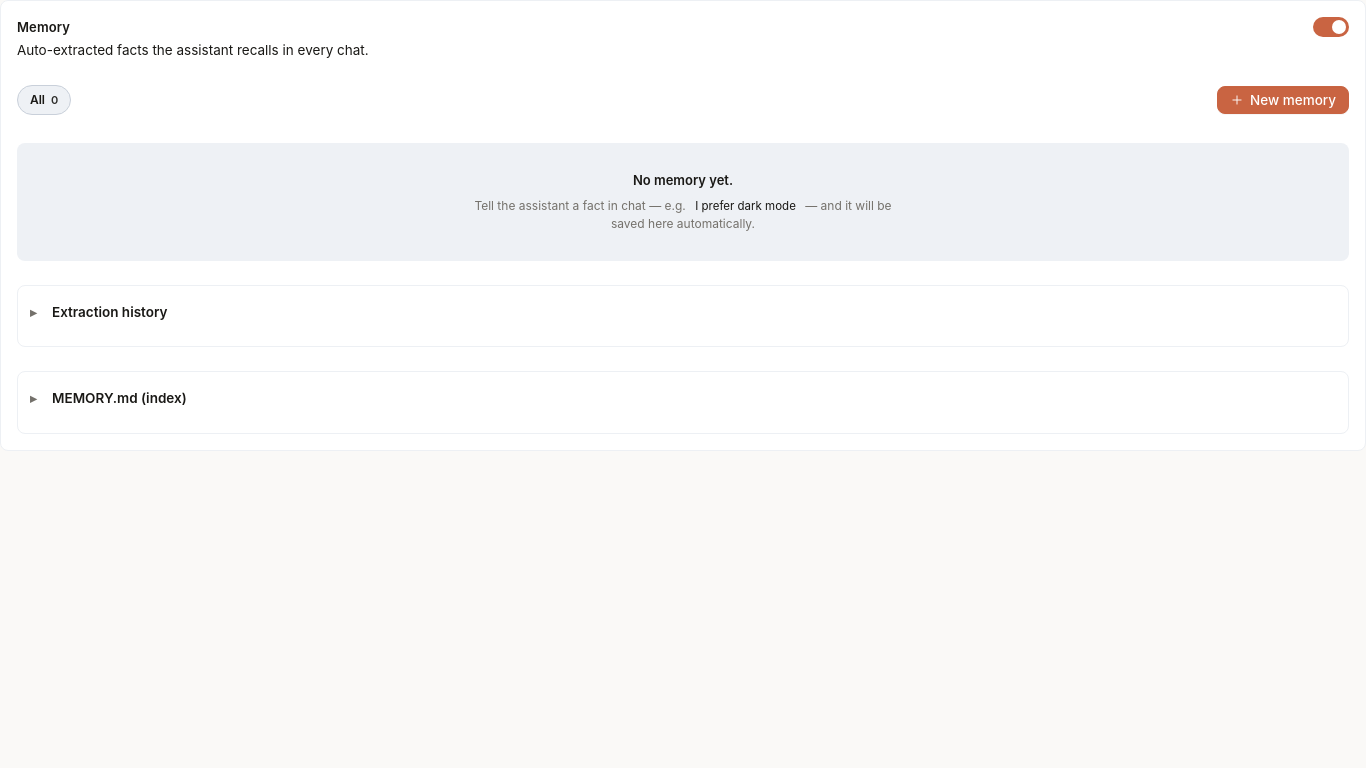
Test: MemorySection › deletes a single extraction row without clearing the whole history
Click the heading "Extraction history" at (110, 312), box [52,304,168,320]
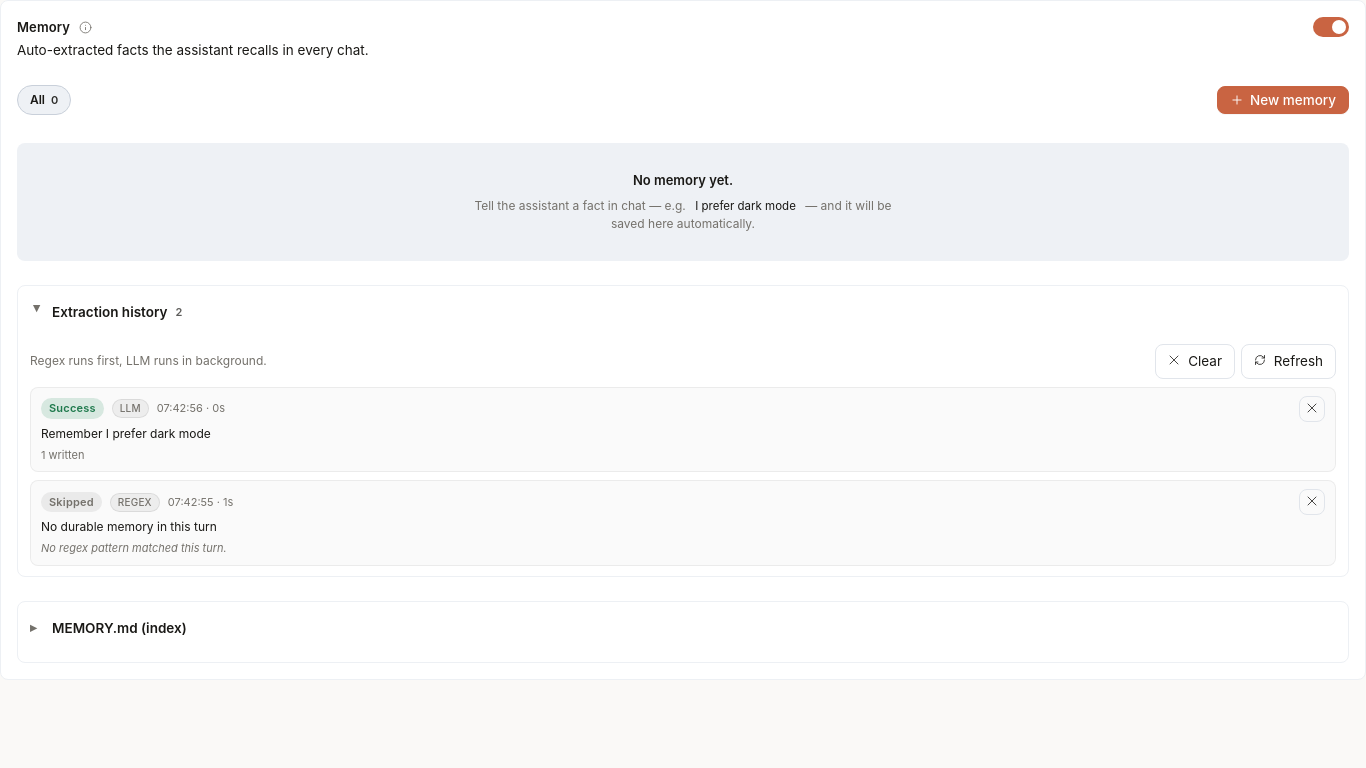
Now the text "Remember I prefer dark mode" is shown, box [41,426,211,441]
Now the text "No durable memory in this turn" is shown, box [41,519,217,534]
Click the button named "Delete" in the row of "0s" at (1312, 409), box [1299,396,1325,422]
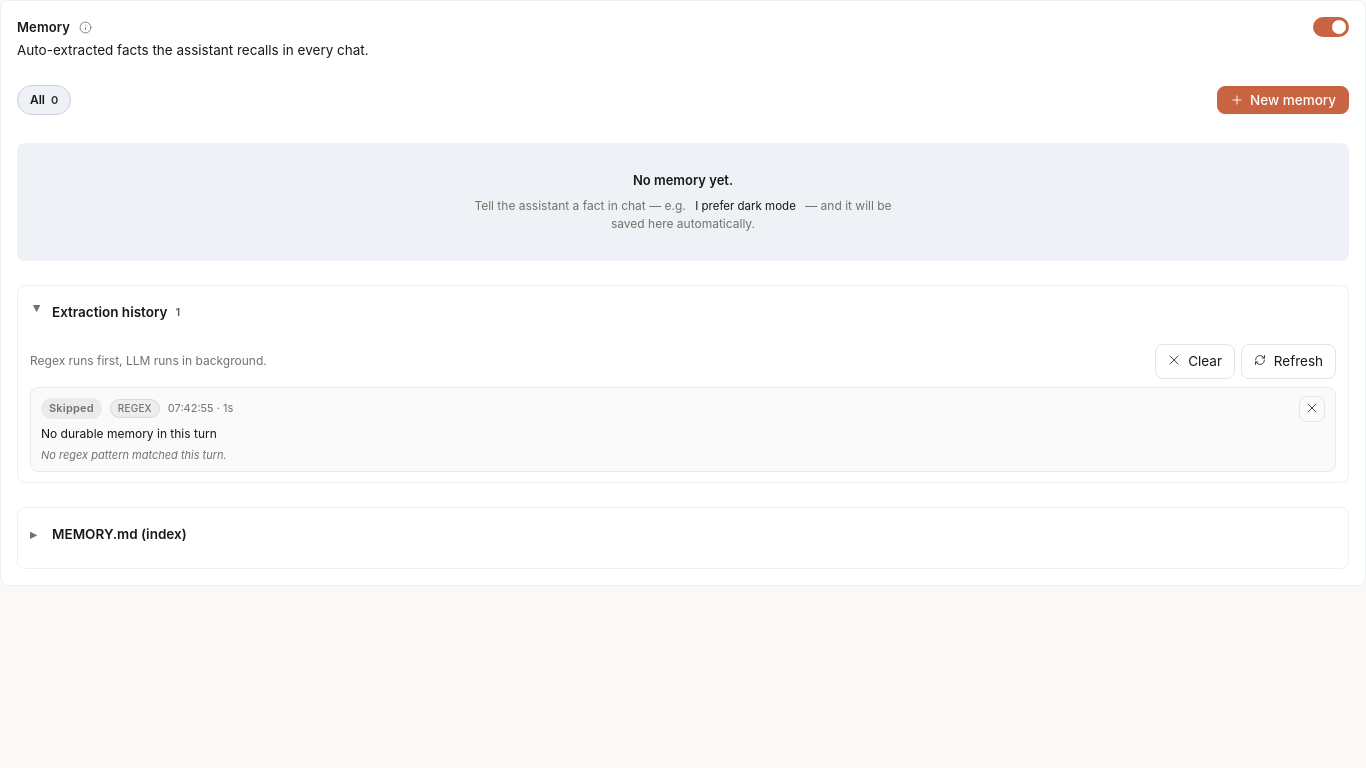
Now the text "No durable memory in this turn" is shown, box [41,426,217,441]
Now the text "Remember I prefer dark mode" is gone
